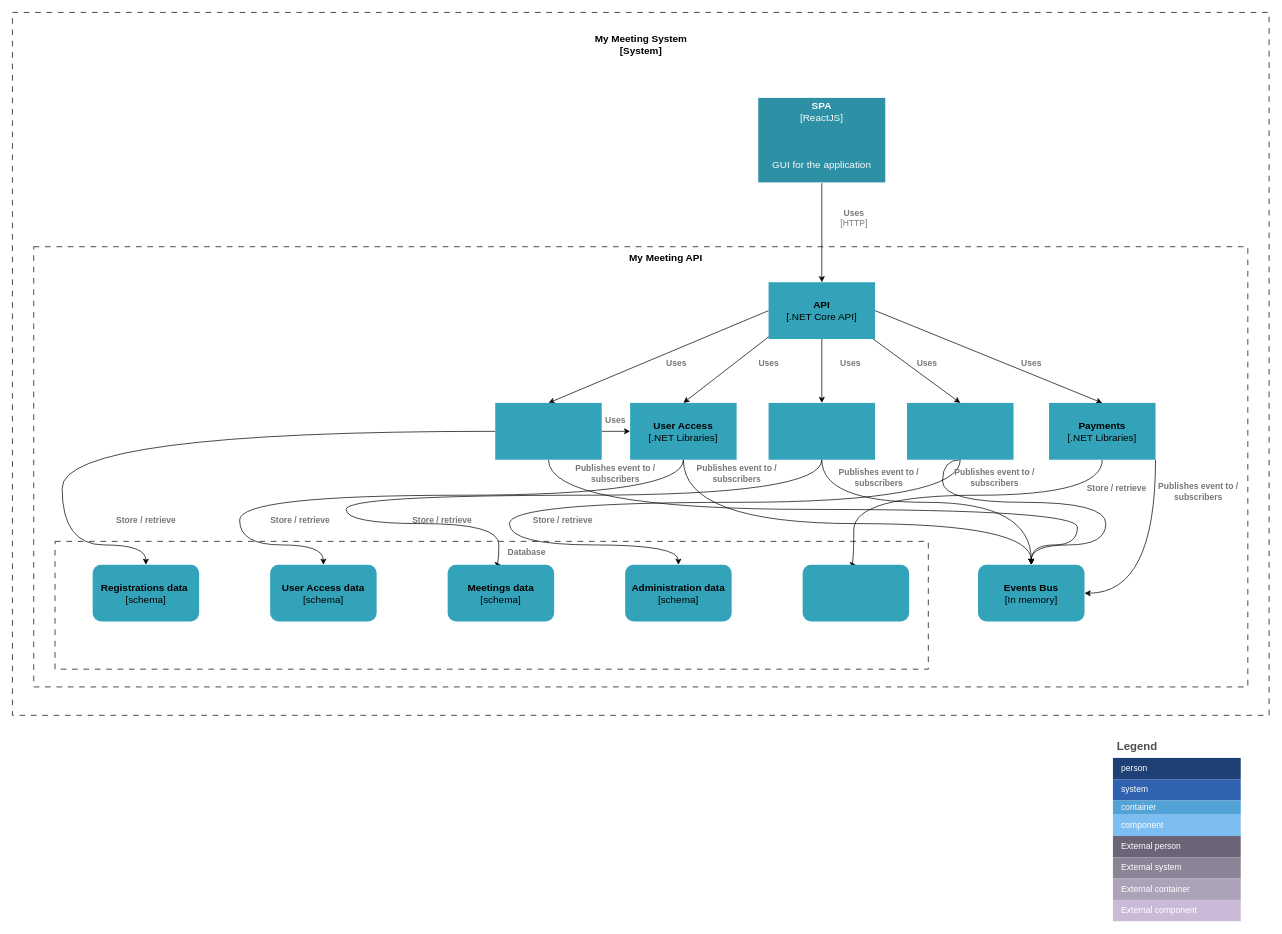
This 1282x934 diagram has some shape labels left out. The shapes that lost their labels are listed below. From the top down, each one's centre as x and y in pixels, then its label:
At (548,431): "Registrations [.NET Libraries]".
At (821,431): "Meetings [.NET Libraries]".
At (960,431): "Administration [.NET Libraries]".
At (855,592): "Payments data [schema]".
